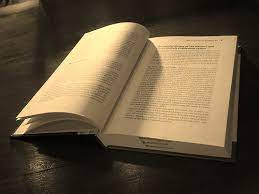Open Book: (18, 23, 244, 163)
